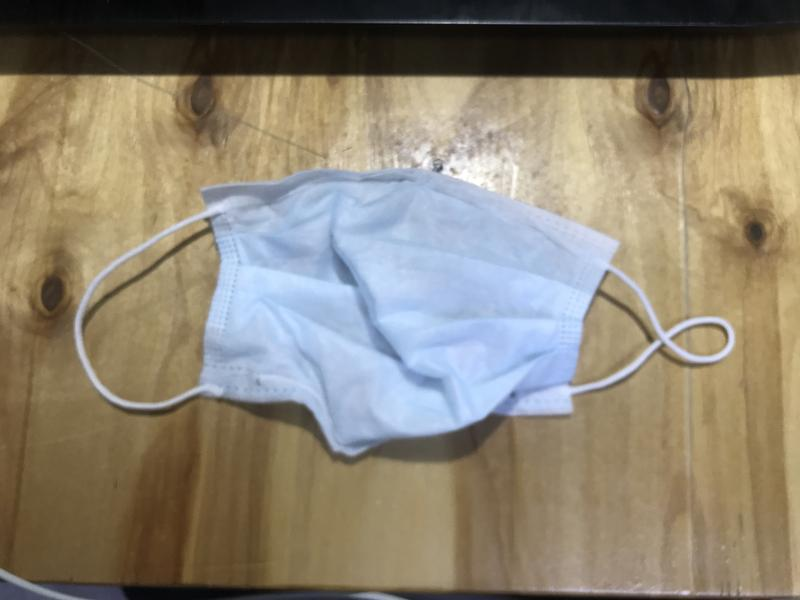medical_mask: (74, 169, 733, 454)
